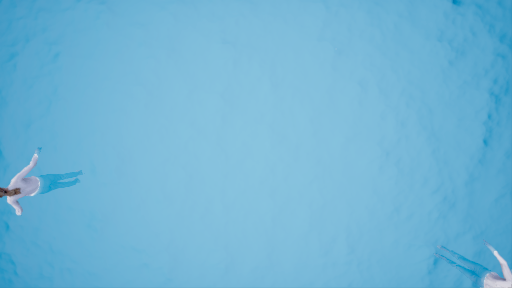person: (1, 151, 94, 214)
